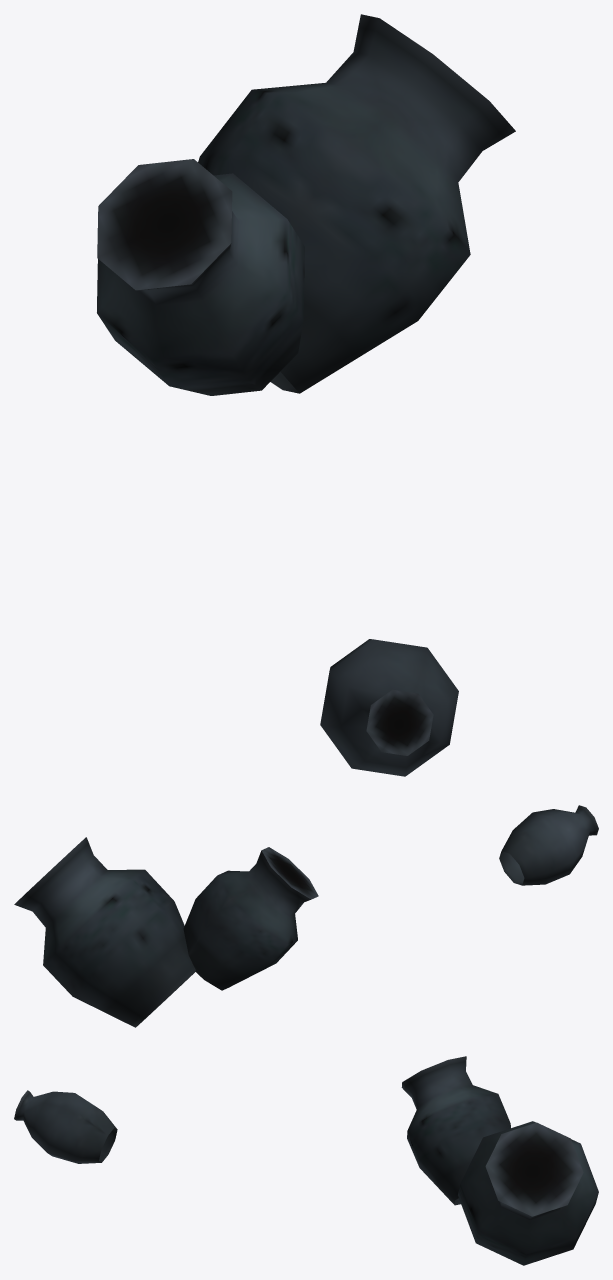
Rendered from Area13_2.fbx.
3 renders of one model, top to bottom at view 1: azimuth 30°, elevation 25°; view 2: azimuth 150°, elevation 25°; view 3: azimuth 270°, elevation 25°, orthographic. The views are drawn at different scales.
Parts seen in each view (by area): view 1: Area13_2; view 2: Area13_2; view 3: Area13_2.
Part boxes in pixels (<box>): Area13_2: <box>97,14,515,776</box>; Area13_2: <box>14,805,598,1027</box>; Area13_2: <box>14,1056,598,1265</box>.
Bounding box in the file's own units: 289 × 144 × 461.
